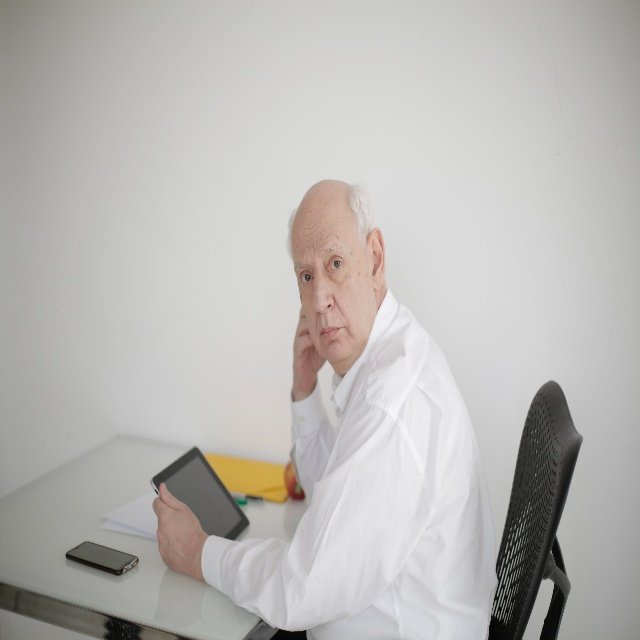Sin_guantes: (152, 482, 202, 579), (292, 308, 326, 393)
